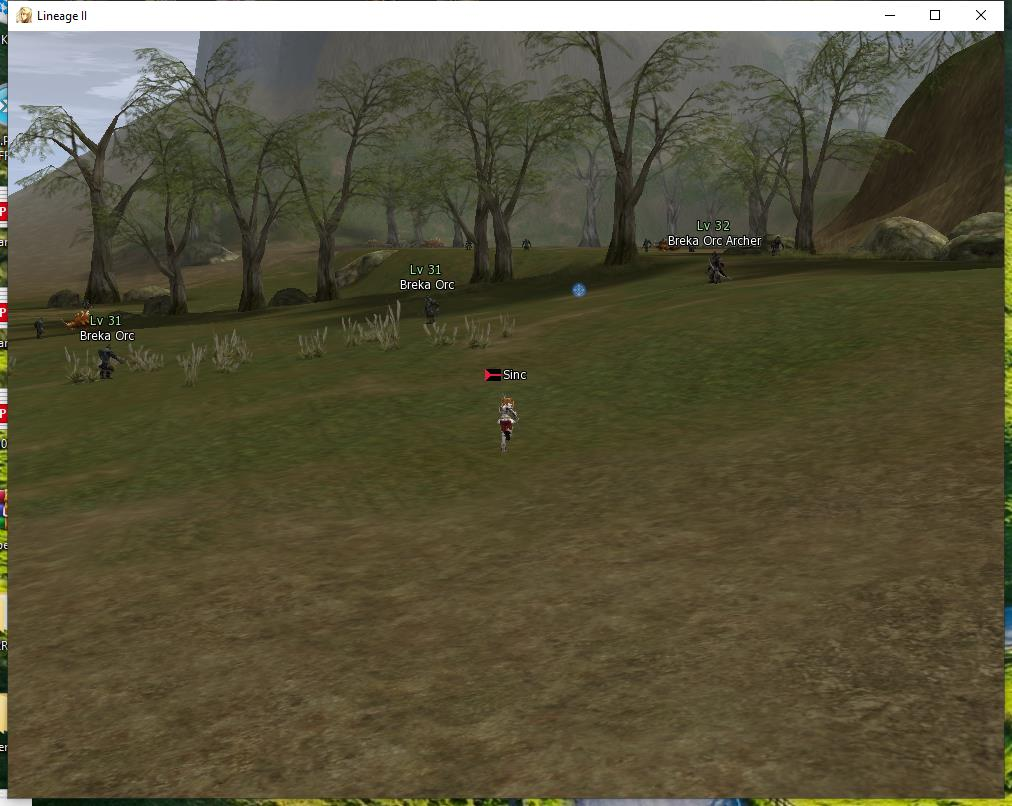monster: (669, 217, 744, 286), (395, 256, 451, 337), (83, 317, 135, 381)
